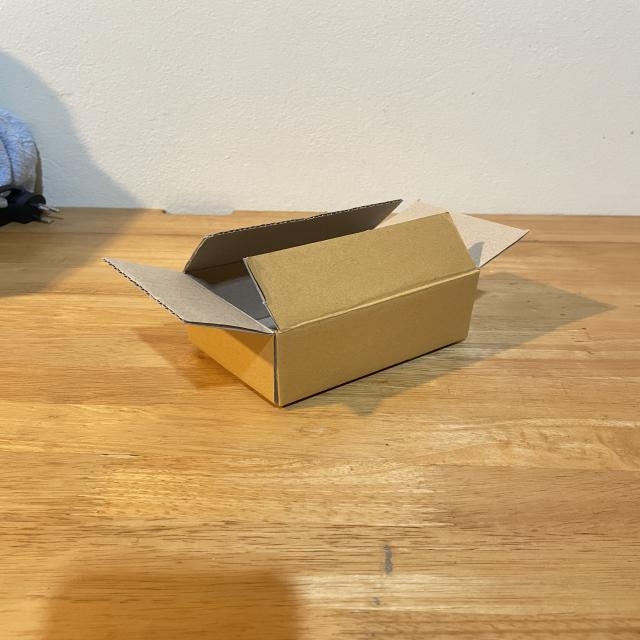box: (101, 198, 529, 407)
opened: (102, 199, 530, 334)
